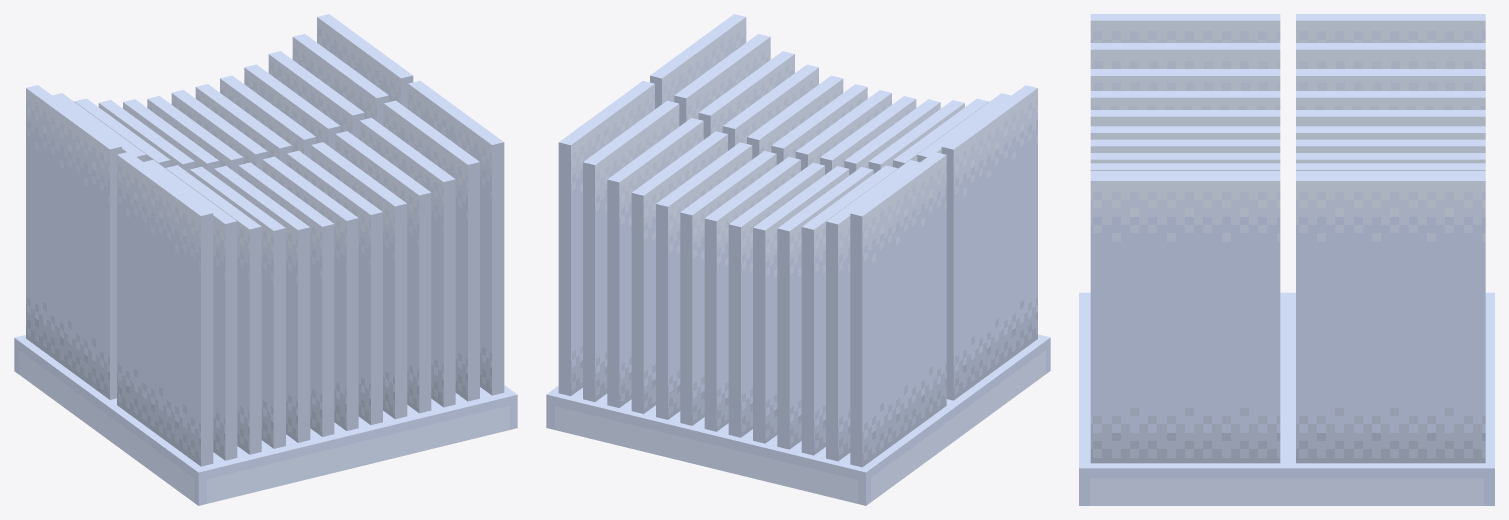
File: tipSet.glb
The picture shows the model from 3 angles, left to right: view 1: azimuth 30°, elevation 25°; view 2: azimuth 150°, elevation 25°; view 3: azimuth 270°, elevation 25°; orthographic projection. The views are drawn at different scales.
Visible parts, largest first — view 1: 立方体.002; view 2: 立方体.002; view 3: 立方体.002.
Part boxes in pixels (left/top/right/bottom): 立方体.002: left=14, top=14, right=517, bottom=505; 立方体.002: left=546, top=14, right=1050, bottom=505; 立方体.002: left=1079, top=14, right=1494, bottom=505.
Bounding box in the file's own units: 2 × 1.7 × 2.
1 material, 1 textured.
